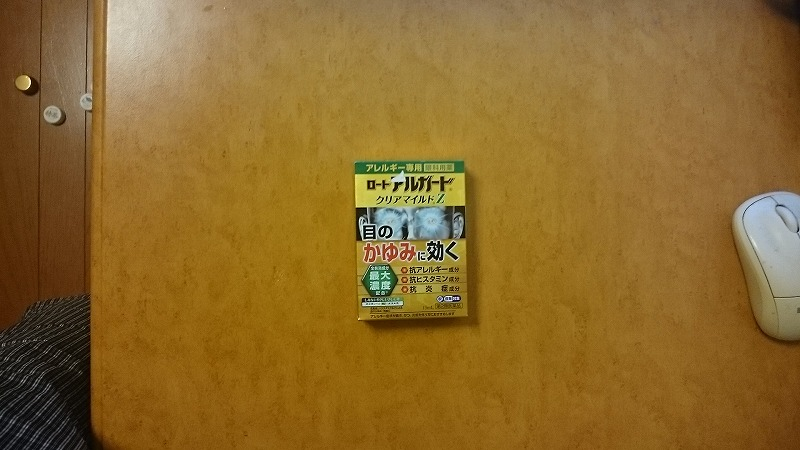C: (350, 157, 474, 323)
